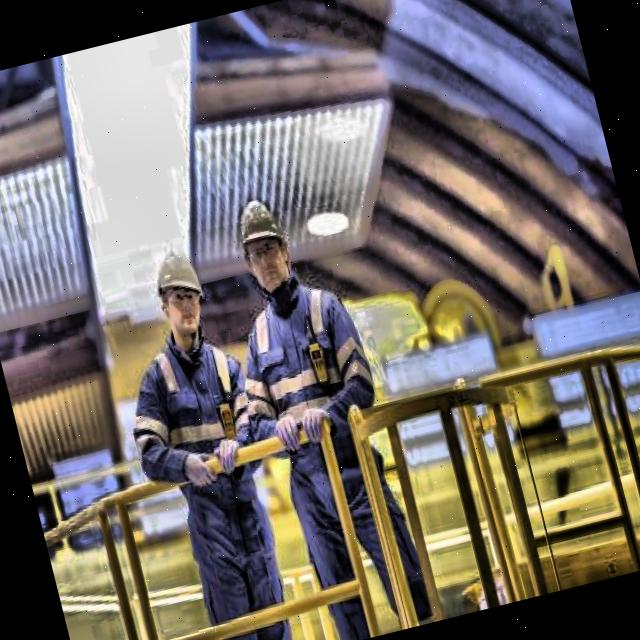helmet: (139, 234, 219, 356), (226, 185, 303, 304)
